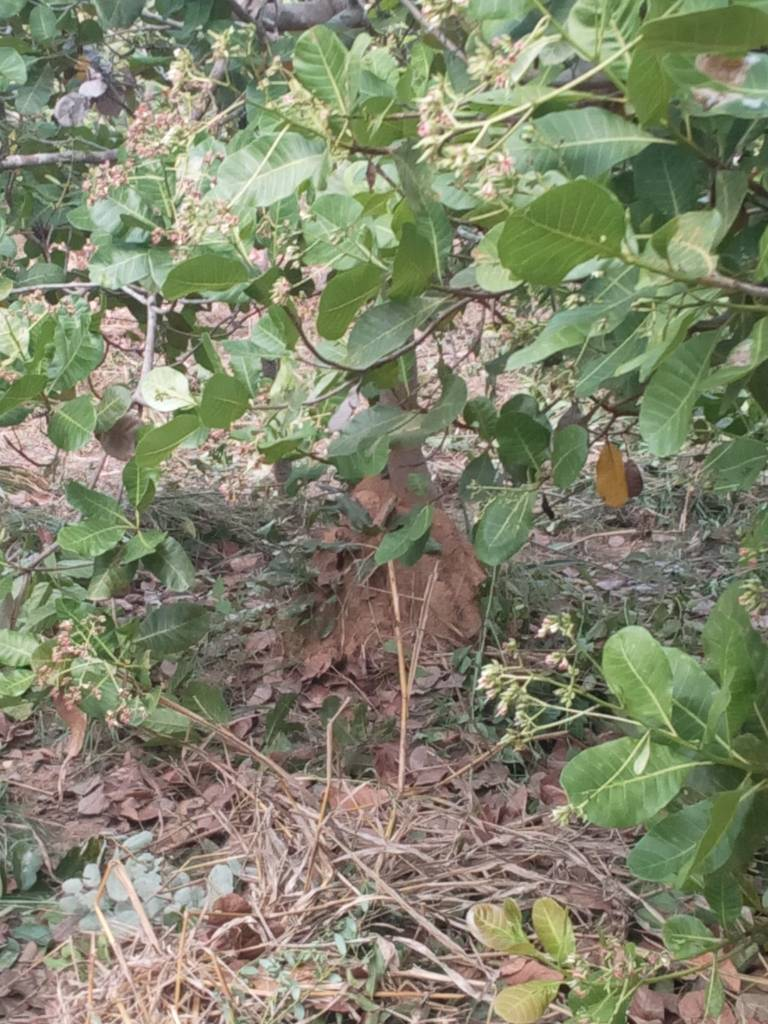Termites: (344, 471, 471, 647)
